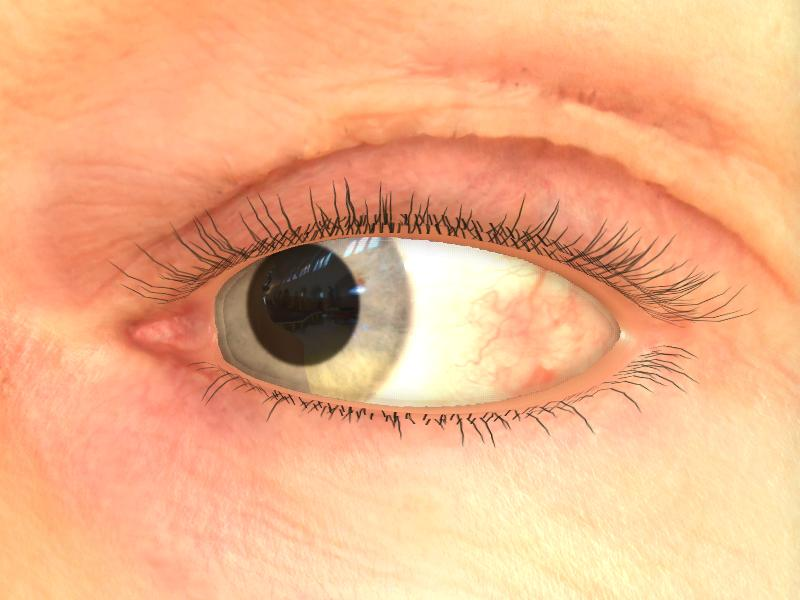eye: (220, 232, 411, 406)
